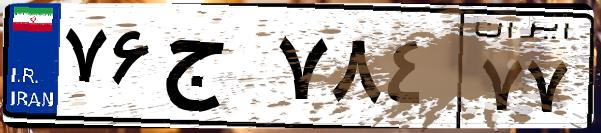4: (385, 28, 445, 110)
6: (110, 28, 158, 98)
7: (270, 28, 330, 110), (57, 26, 110, 100), (475, 38, 525, 113), (525, 38, 570, 115)
8: (330, 28, 385, 110)
ج: (158, 20, 270, 120)
